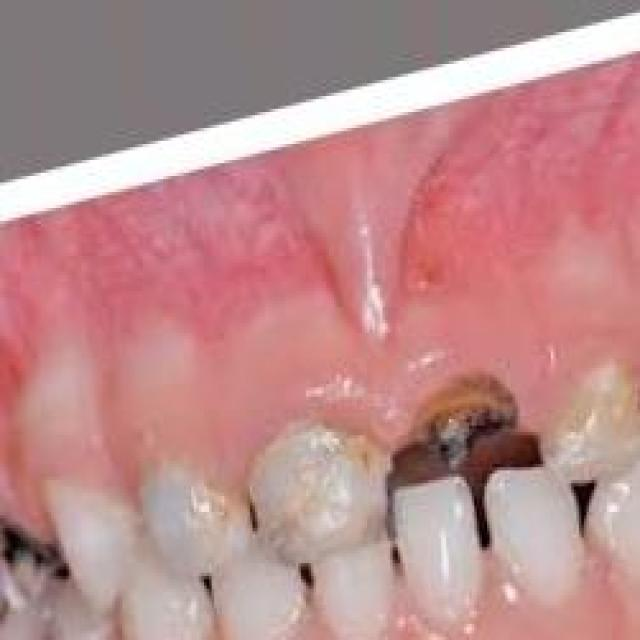caries: (252, 422, 392, 560), (402, 358, 520, 474), (538, 352, 640, 477), (0, 504, 68, 619)
